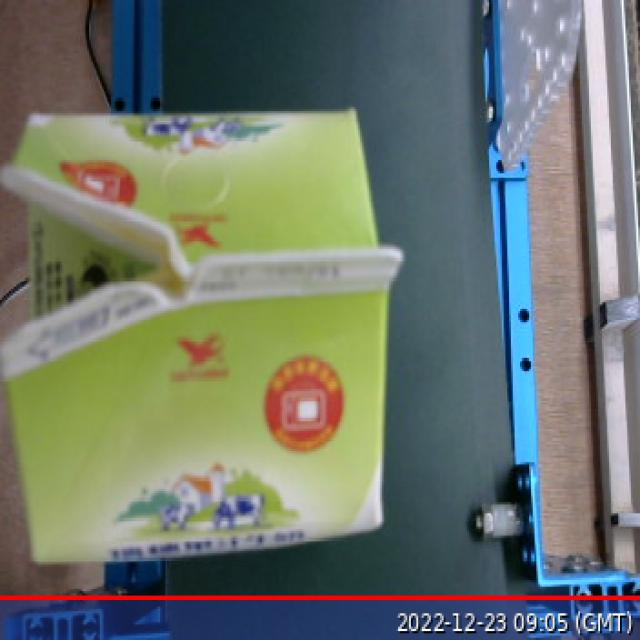non_white_jug: (5, 80, 414, 570)
